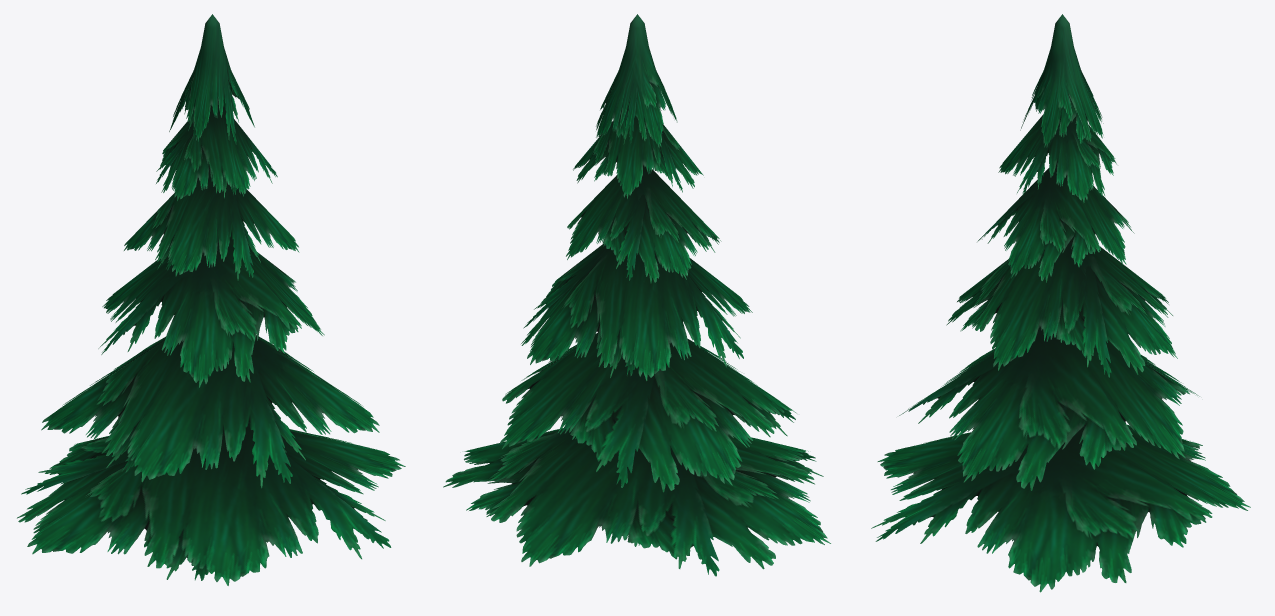
Rendered from tree1.fbx.
3 views of the same model, side by side, from view 1: azimuth 30°, elevation 25°; view 2: azimuth 150°, elevation 25°; view 3: azimuth 270°, elevation 25° (orthographic).
Parts seen in each view (by area): view 1: Object001; view 2: Object001; view 3: Object001.
Boxes of the visible parts, x1,y1,x2,y2 form: Object001: [17, 14, 405, 585]; Object001: [443, 14, 830, 576]; Object001: [871, 14, 1250, 592].
Size of the model in its own units: 62.09 by 73.61 by 53.77.
